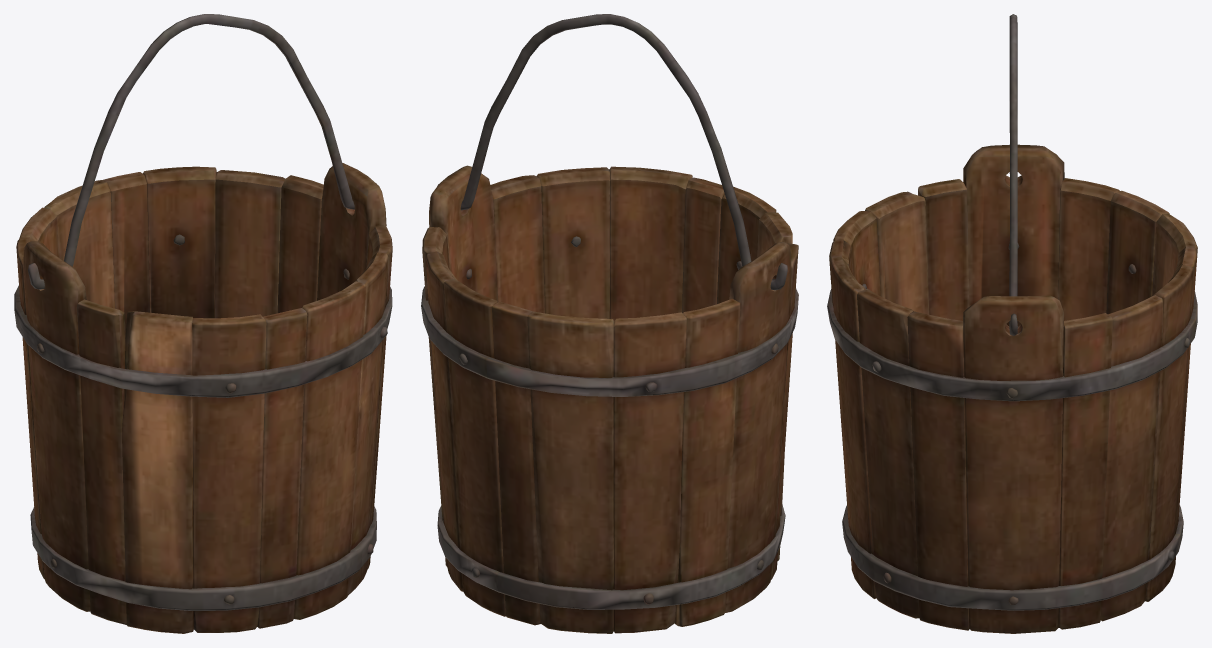
File: wooden_bucket_01.glb
3 renders of one model, left to right at view 1: azimuth 30°, elevation 25°; view 2: azimuth 150°, elevation 25°; view 3: azimuth 270°, elevation 25°, orthographic.
Parts seen in each view (by area): view 1: wooden_bucket_01, wooden_bucket_01_handle; view 2: wooden_bucket_01, wooden_bucket_01_handle; view 3: wooden_bucket_01, wooden_bucket_01_handle.
Boxes of the visible parts, x1=… form: wooden_bucket_01: x1=14, y1=163, x2=392, y2=633; wooden_bucket_01_handle: x1=28, y1=14, x2=376, y2=289; wooden_bucket_01: x1=421, y1=165, x2=798, y2=633; wooden_bucket_01_handle: x1=437, y1=14, x2=787, y2=290; wooden_bucket_01: x1=827, y1=144, x2=1197, y2=633; wooden_bucket_01_handle: x1=1009, y1=14, x2=1017, y2=335.
Size of the model in its own units: 0.367 by 0.5499 by 0.3419.
Materials: 1 (1 with a texture image).
